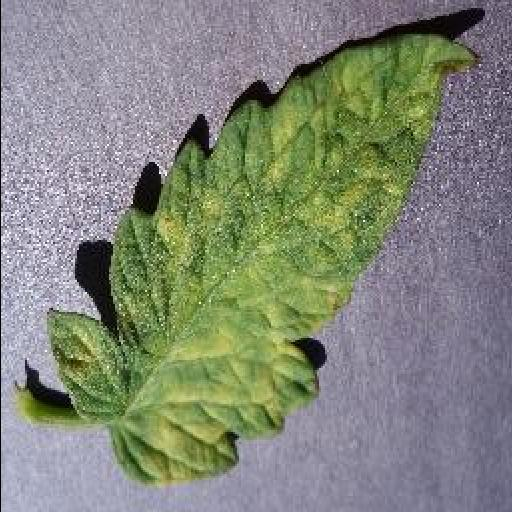disease_tomato: (48, 36, 480, 486)
